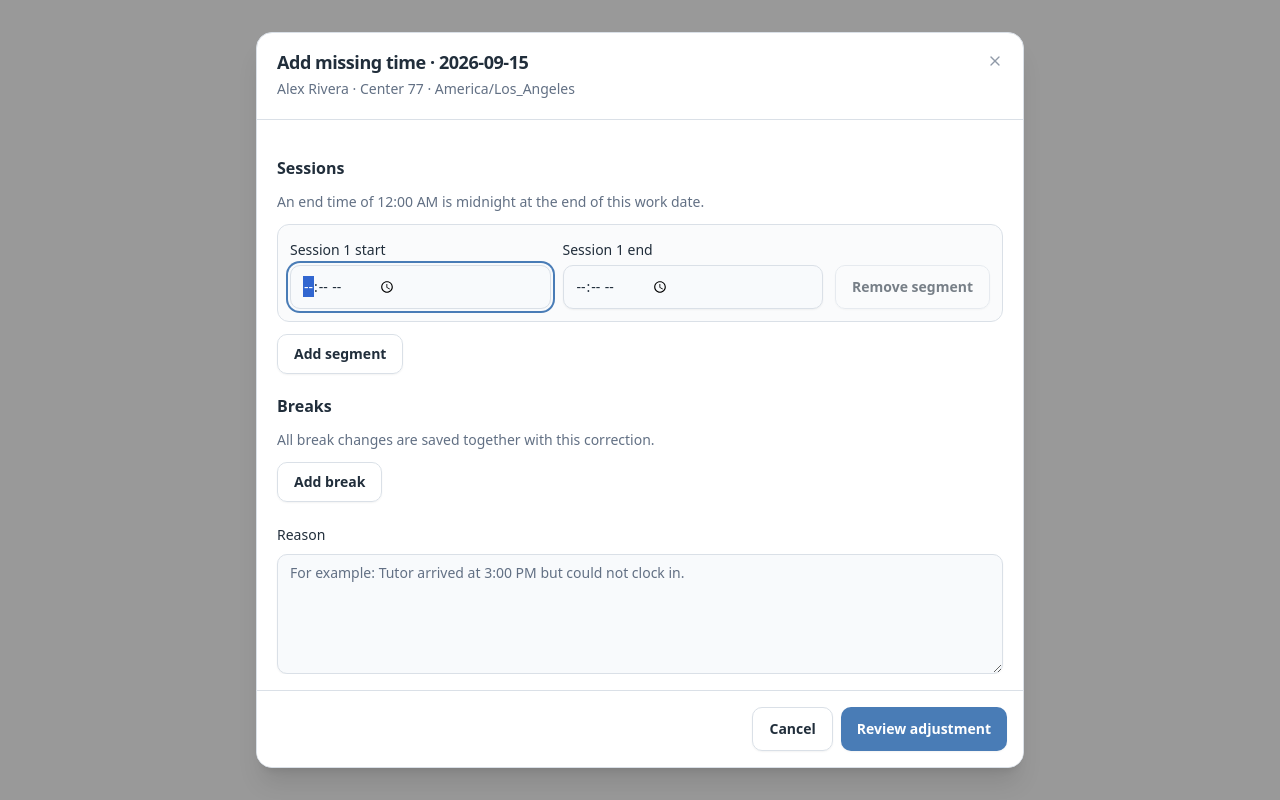
a missing day can request a correction preview without an existing entry id
This screenshot has width=1280, height=800.
Type "15:00" into the time field labelled "Session 1 start". click: (420, 287)
box: [290,265,550,309]
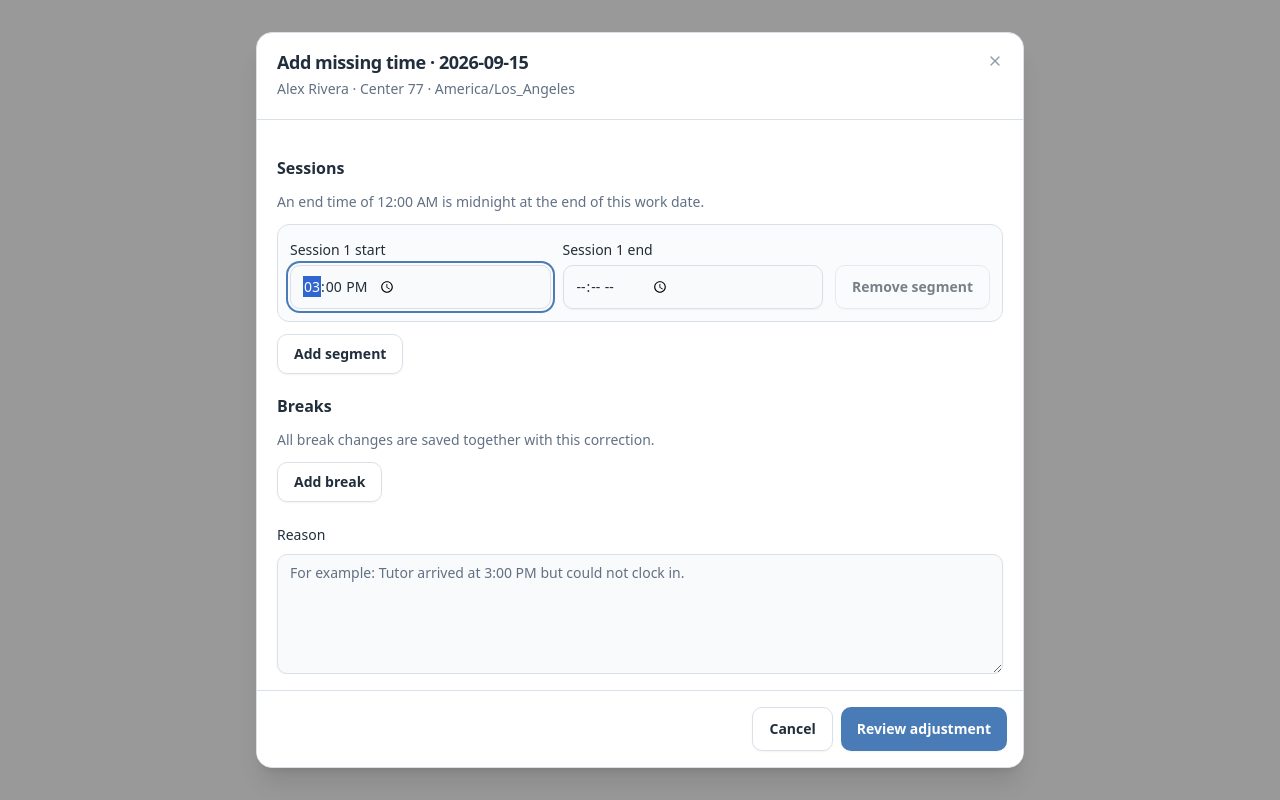
Type "18:15" into the time field labelled "Session 1 end". click: (693, 287)
box: [562,265,823,309]
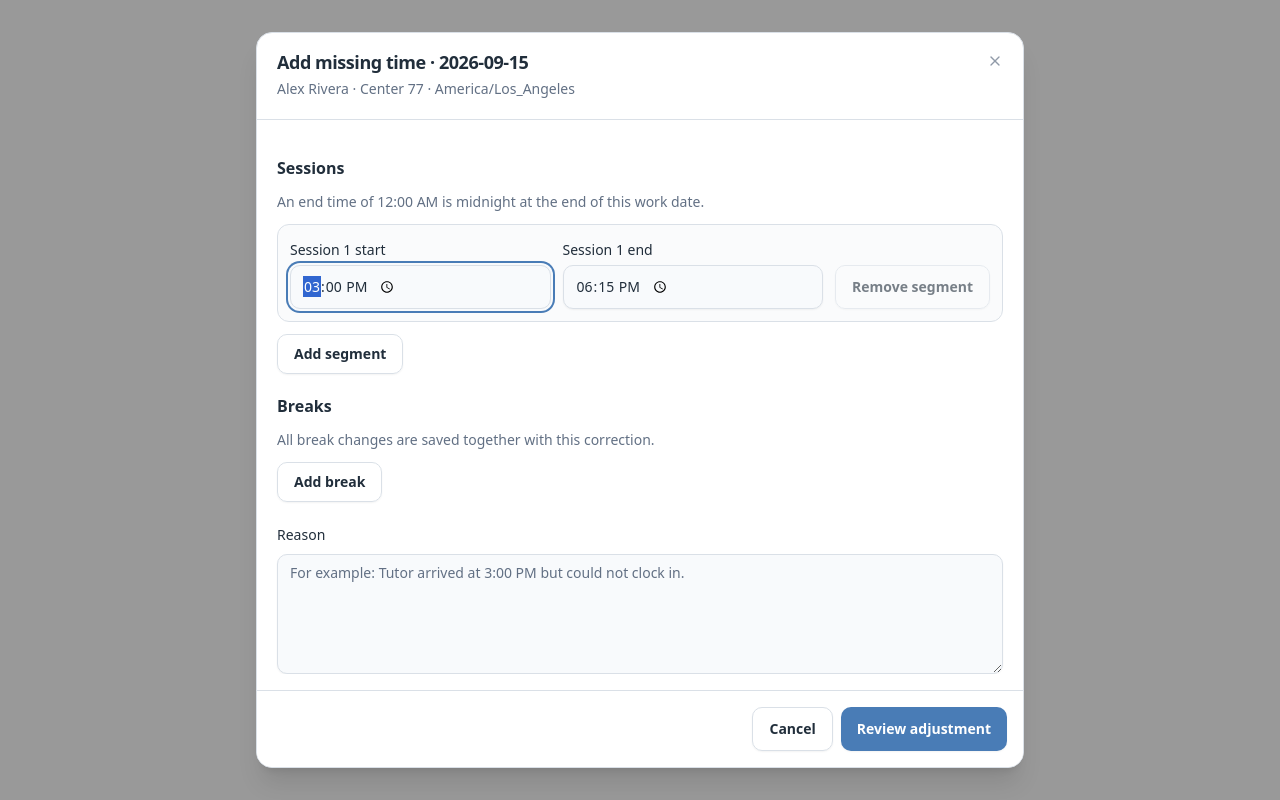
Replace the text in the text box labelled "Reason" with "Missed clock-in". click: (640, 614)
box: [277,554,1003,674]
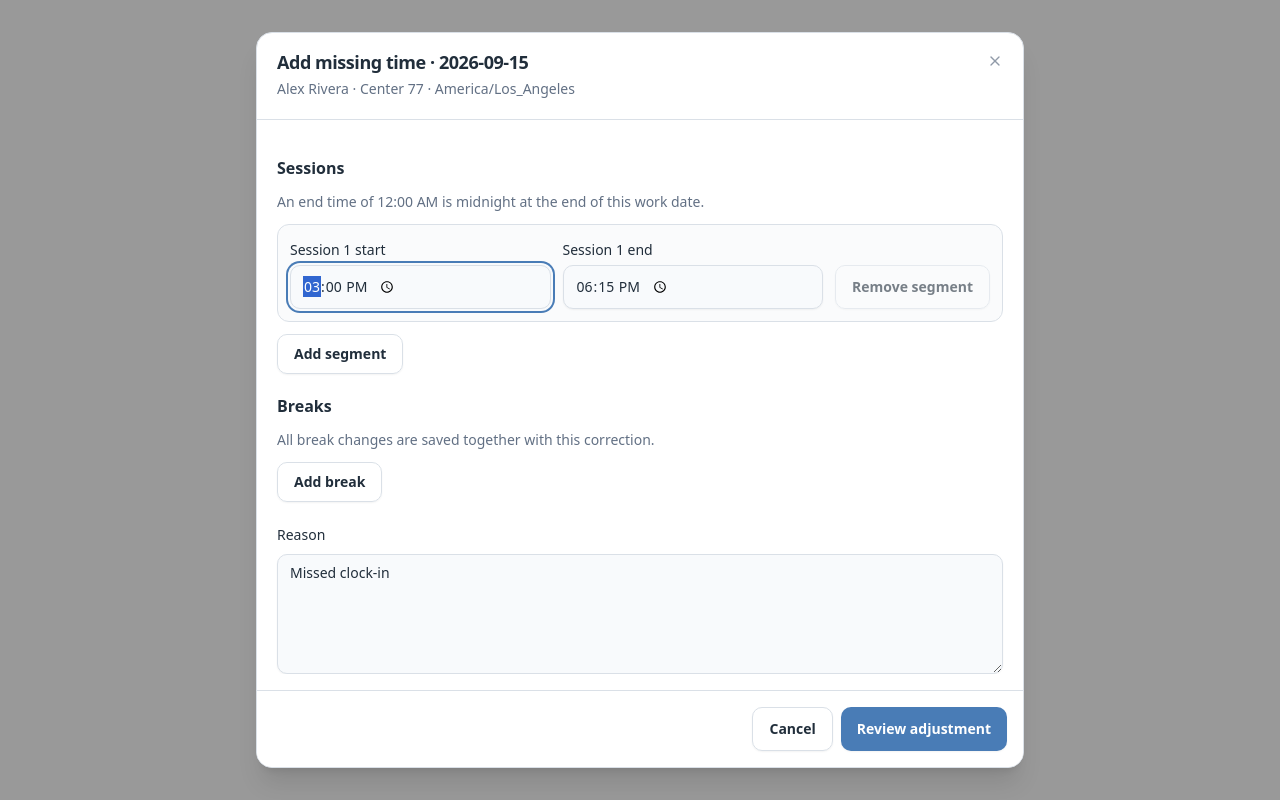
Click the button "Review adjustment". click: click(924, 729)
box: [841,707,1007,751]
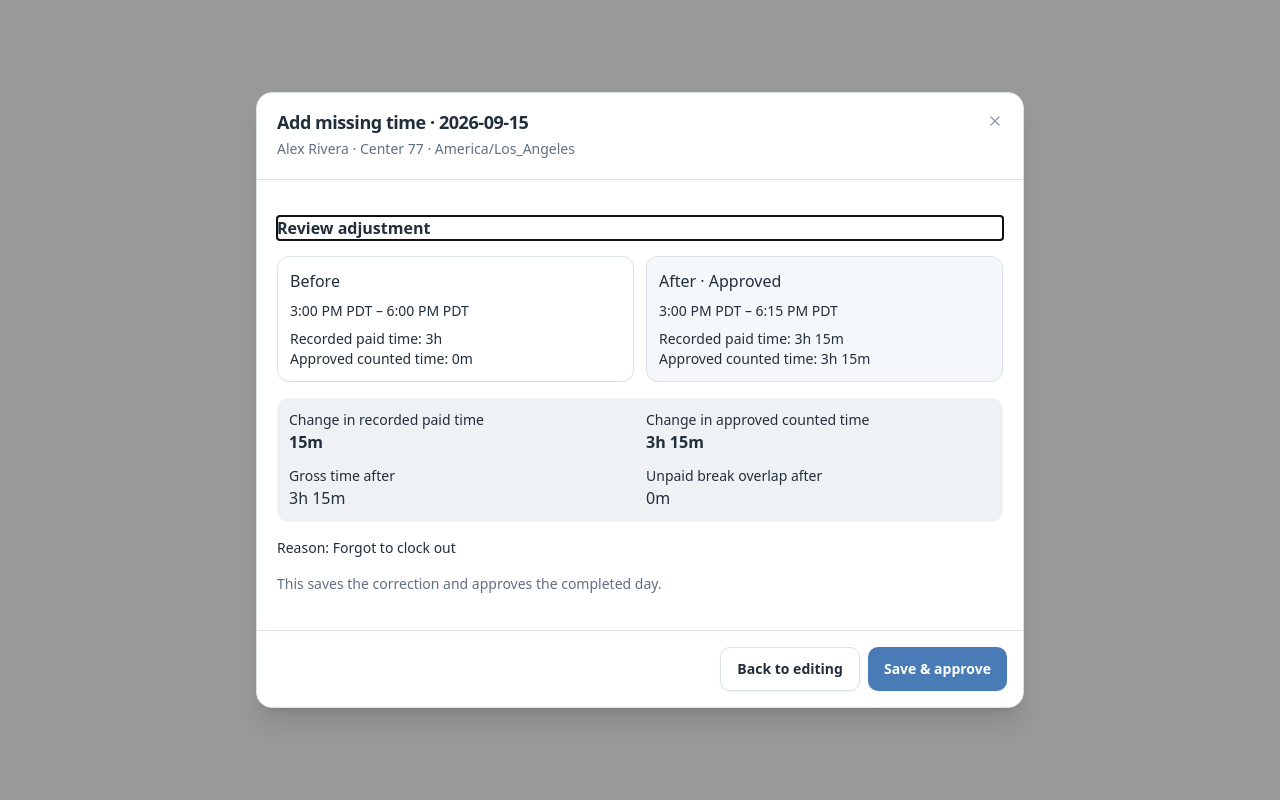
Expected: the button "Save & approve" is shown, [868,647,1007,691]
